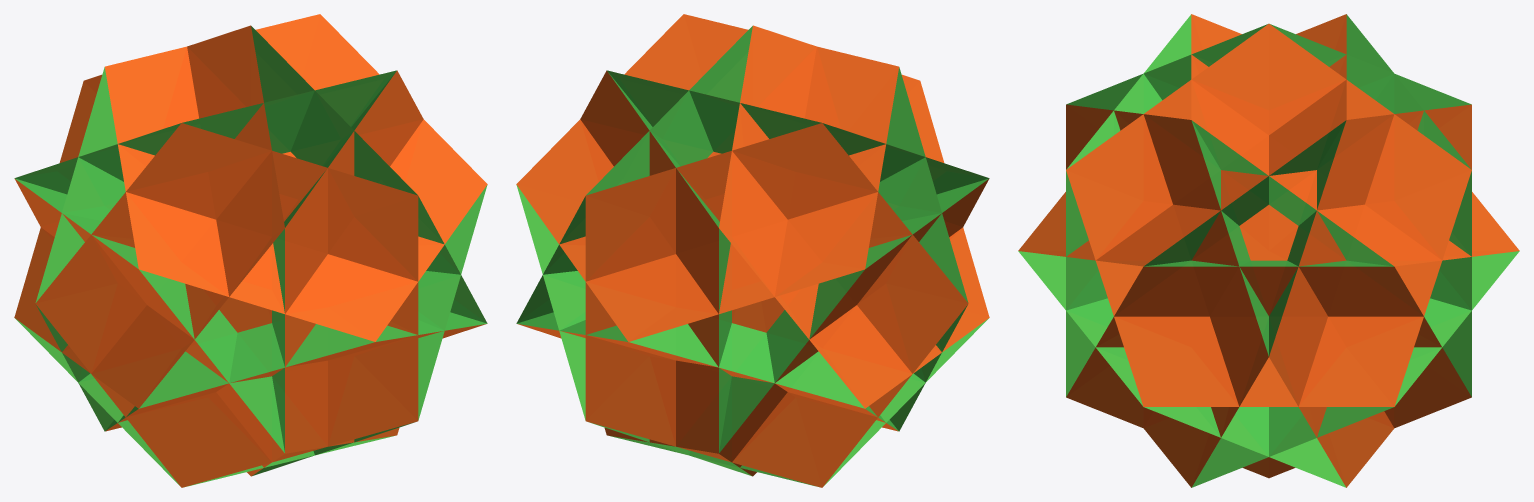
File: GreatDodecahemicosahedron.obj
3 renders of one model, left to right at view 1: azimuth 30°, elevation 25°; view 2: azimuth 150°, elevation 25°; view 3: azimuth 270°, elevation 25°, orthographic.
Bounding box in the file's own units: 2 × 2 × 2.
